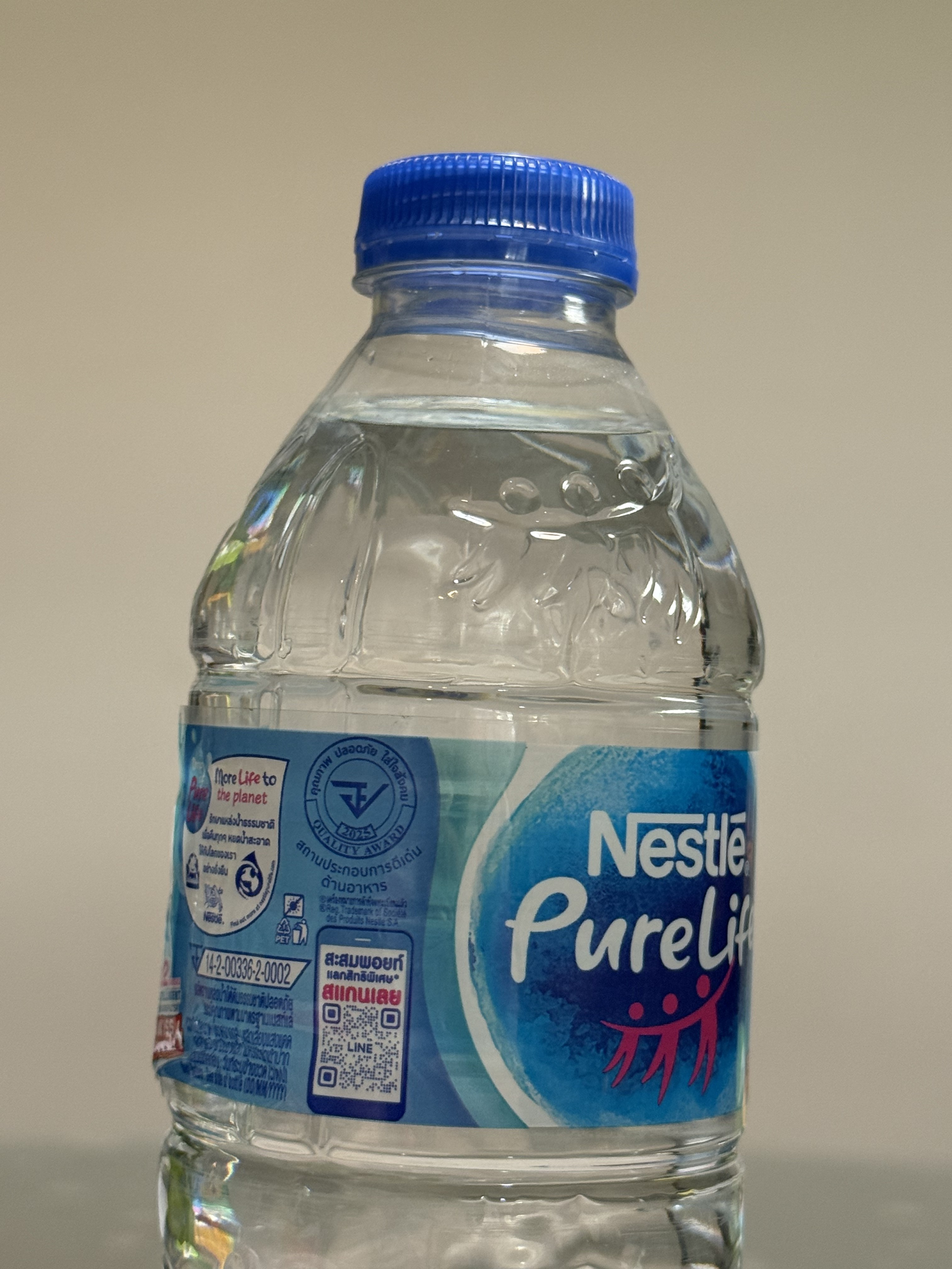closed_cap: (349, 147, 641, 303)
